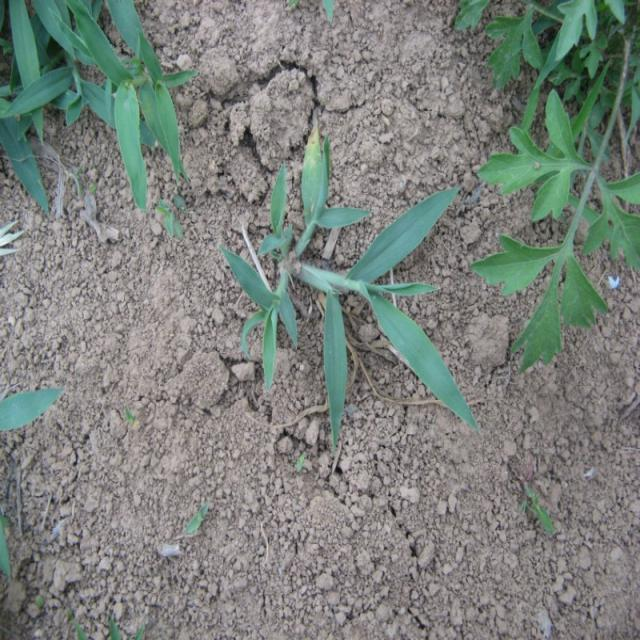bg: (226, 120, 481, 444)
